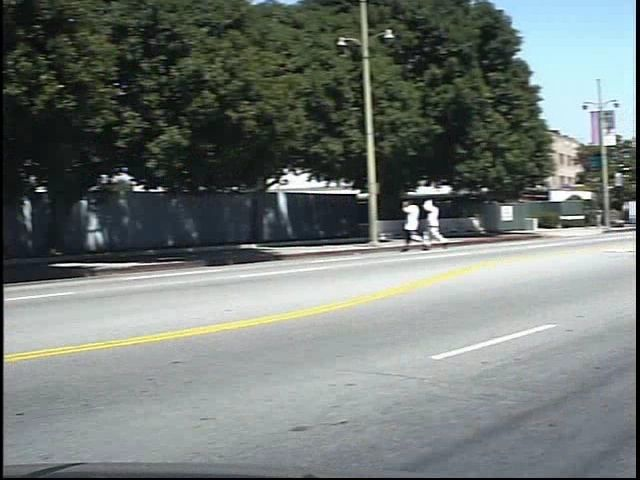person: (436, 195, 468, 254), (415, 194, 442, 254)
